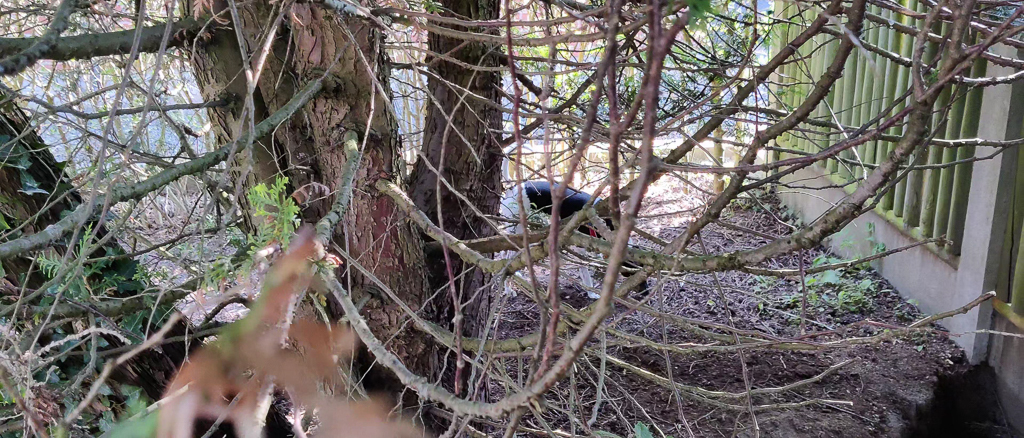Dog: (489, 137, 634, 305)
